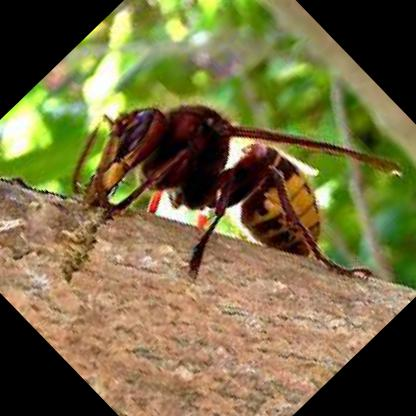european: (36, 0, 415, 373)
